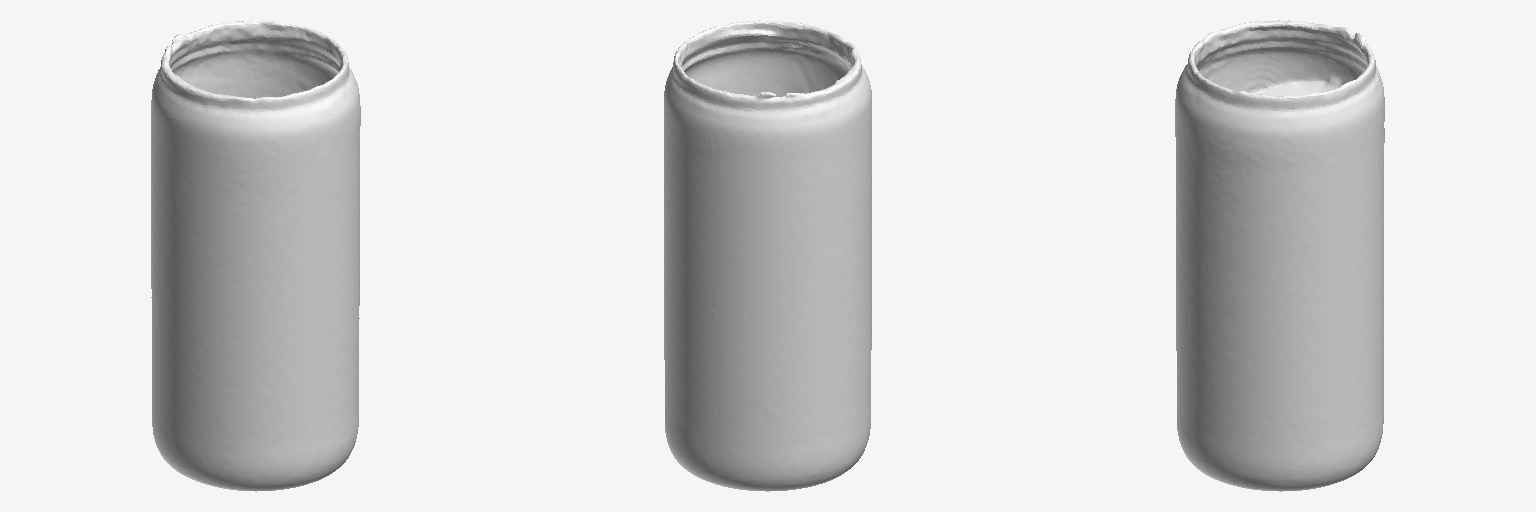
robot.urdf — model.urdf:
<robot name="model.urdf">
    <link name="baseLink">
        <contact>
            <lateral_friction value="0.4"/>
            <rolling_friction value="1"/>
            <spinning_friction value="1"/>
            <contact_cfm value="0.0"/>
            <contact_erp value="1.0"/>
        </contact>
        <inertial>
            <origin rpy="0 0 0" xyz="0. 0.0 -0.065"/>
            <mass value="1.5"/>
            <inertia ixx="1e-3" ixy="0" ixz="0" iyy="1e-3" iyz="0" izz="1e-3"/>
        </inertial>
        <visual>
            <origin xyz="0.0 0.0 0.0" rpy="0 0 -1.7" />
            <geometry>
                <mesh filename="nontextured.stl" scale="1 1 1"/>
            </geometry>
            <material name="white">
                <color rgba="1 1 1 1"/>
            </material>
        </visual>
        <collision>
            <origin xyz="0.0 0.0 0.0" rpy="0 0 -1.7" />
            <geometry>
                <mesh filename="nontextured.stl" scale="1 1 1"/>
            </geometry>
        </collision>
    </link>
</robot>

--- Render facts (derived) ---
The picture shows the robot from 3 angles, left to right: view 1: azimuth 30°, elevation 25°; view 2: azimuth 150°, elevation 25°; view 3: azimuth 270°, elevation 25°; orthographic projection.
Robot: model.urdf — 1 links, 0 joints (none); root link baseLink; default pose: all joints at 0.
Links seen in each view (by area): view 1: baseLink; view 2: baseLink; view 3: baseLink.
Boxes of the visible links, x1,y1,x2,y2 form: baseLink: (151, 20, 360, 491); baseLink: (664, 20, 871, 491); baseLink: (1175, 20, 1384, 491).
Size in the robot's own frame: 0.0703 by 0.0704 by 0.1496 metres.
1 mesh visuals loaded from 1 distinct referenced files (1 binary STL).